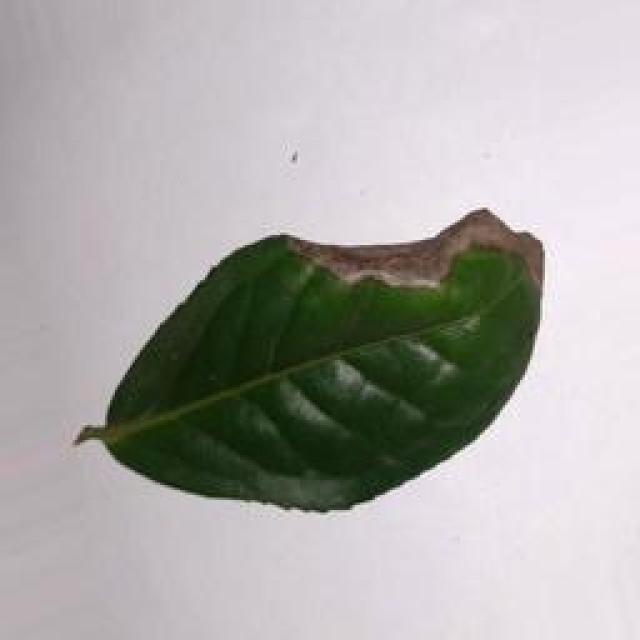Brown Blight: (80, 198, 552, 522)
